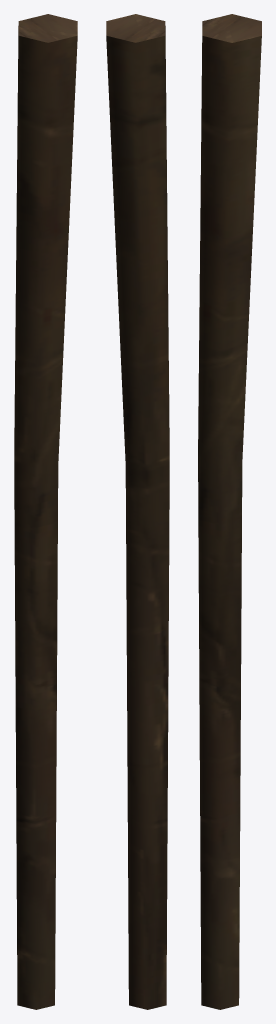
Rendered from Z_mutiao002.fbx.
3 views of the same model, side by side, from view 1: azimuth 30°, elevation 25°; view 2: azimuth 150°, elevation 25°; view 3: azimuth 330°, elevation 25° (orthographic).
Visible parts, largest first — view 1: Z_mutiao002; view 2: Z_mutiao002; view 3: Z_mutiao002.
Part boxes in pixels (x1,y1,x2,y2): Z_mutiao002: [14, 14, 77, 1009]; Z_mutiao002: [106, 14, 169, 1009]; Z_mutiao002: [198, 14, 261, 1009].
Bounding box in the file's own units: 24.31 × 354 × 19.62.
